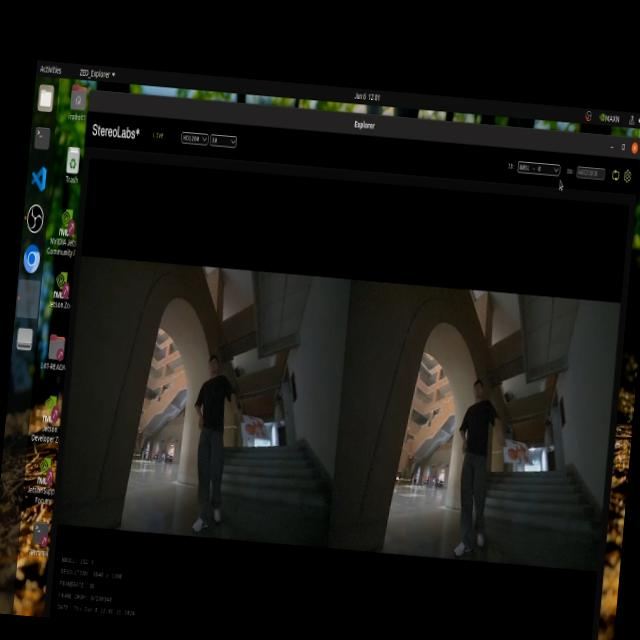red: (502, 434, 536, 468), (242, 414, 275, 444)
